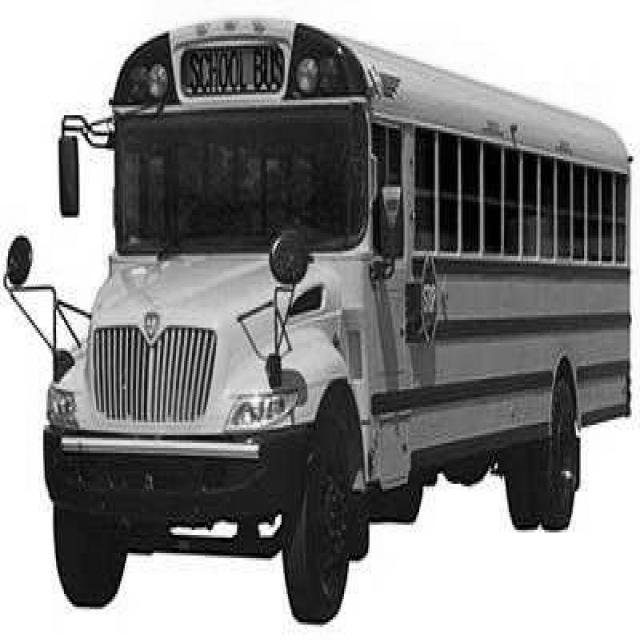Bus: (45, 20, 630, 621)
